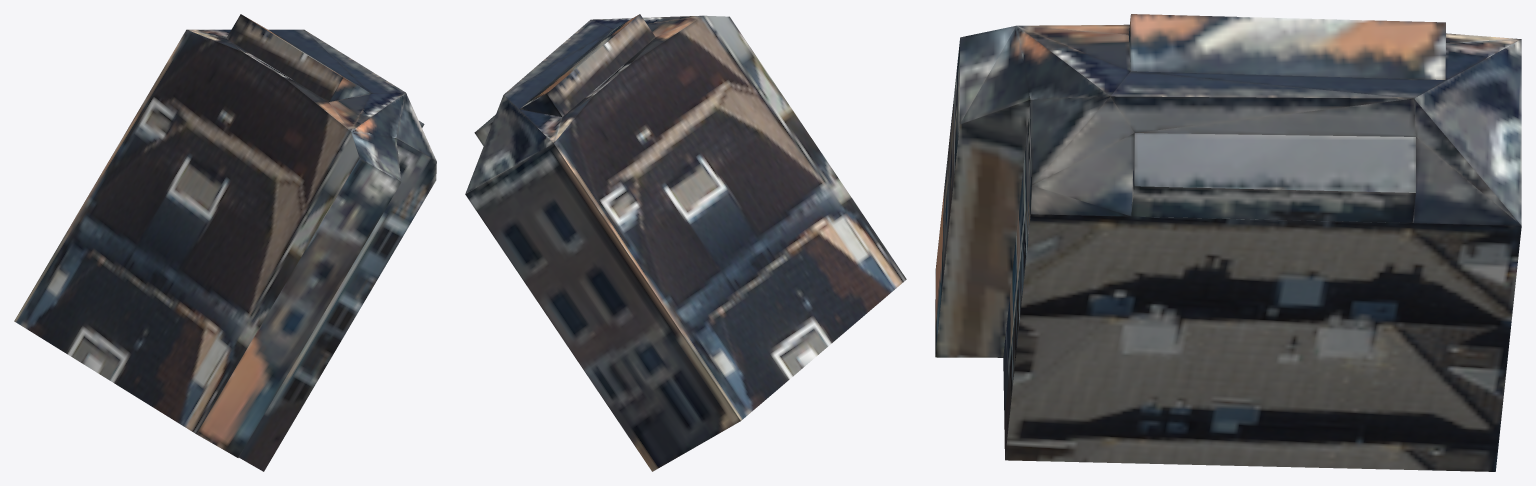
3 renders of one model, left to right at view 1: azimuth 30°, elevation 25°; view 2: azimuth 150°, elevation 25°; view 3: azimuth 270°, elevation 25°, orthographic. The views are drawn at different scales.
Parts seen in each view (by area): view 1: BAG_0599100000688747 (×5); view 2: BAG_0599100000688747 (×5); view 3: BAG_0599100000688747 (×5).
Boxes of the visible parts, x1,y1,x2,y2 form: BAG_0599100000688747 (×5): (14, 14, 436, 471); BAG_0599100000688747 (×5): (465, 14, 906, 471); BAG_0599100000688747 (×5): (935, 14, 1521, 471).
Bounding box in the file's own units: 13.04 × 14.54 × 13.89.
Materials: 1 (1 with a texture image).
